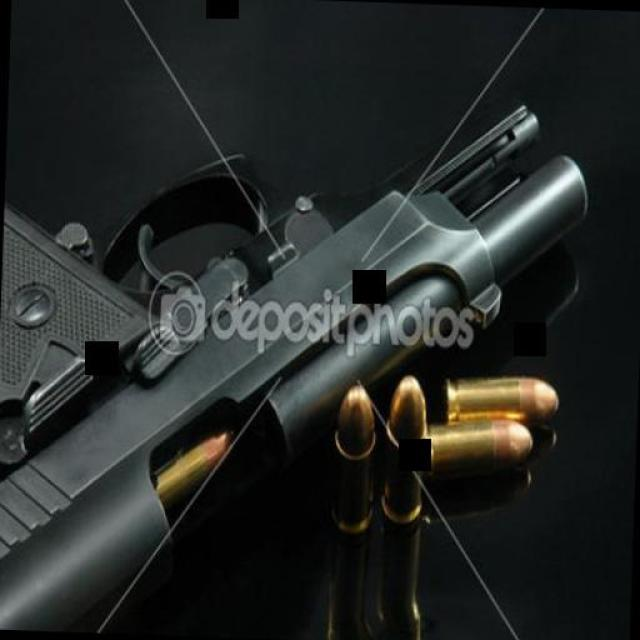gun: (0, 75, 618, 640)
